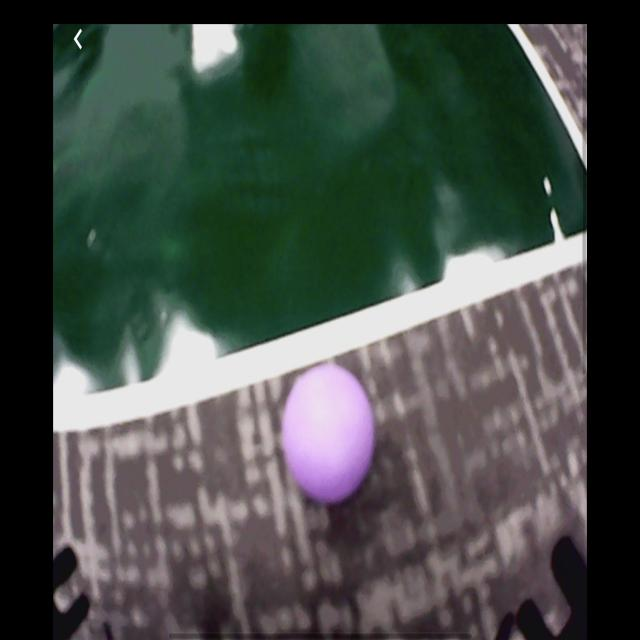ball: (281, 367, 376, 505)
